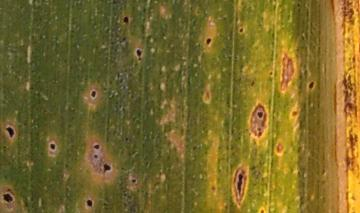tarspot: (235, 172, 244, 200), (2, 191, 18, 206), (5, 125, 16, 140), (101, 162, 113, 175), (120, 13, 132, 26), (255, 109, 266, 122), (47, 141, 58, 153), (84, 197, 95, 209), (133, 47, 143, 59), (129, 175, 139, 187), (307, 80, 316, 92), (236, 24, 245, 36), (89, 87, 97, 100), (91, 152, 101, 162), (91, 141, 101, 150), (204, 36, 213, 46)
